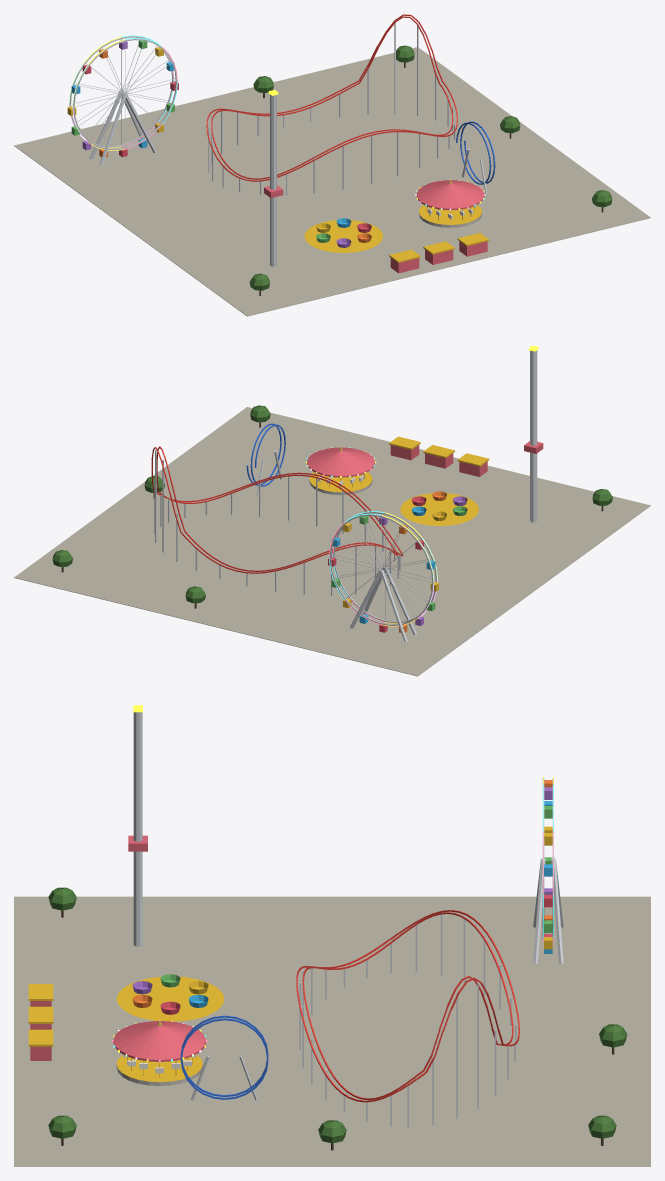
The model's file is amusement_park.glb.
3 renders of one model, top to bottom at view 1: azimuth 30°, elevation 25°; view 2: azimuth 150°, elevation 25°; view 3: azimuth 270°, elevation 25°, orthographic. The views are drawn at different scales.
Parts seen in each view (by area): view 1: Amuse_static, spin_s40_wheel, spinY_s50_carousel; view 2: Amuse_static, spin_s40_wheel, spinY_s50_carousel; view 3: Amuse_static, spinY_s50_carousel, spin_s40_wheel.
Part boxes in pixels (bbox=[...]): Amuse_static: bbox=[14, 14, 650, 316]; spin_s40_wheel: bbox=[67, 35, 178, 157]; spinY_s50_carousel: bbox=[415, 179, 485, 227]; Amuse_static: bbox=[14, 345, 650, 676]; spin_s40_wheel: bbox=[328, 511, 438, 632]; spinY_s50_carousel: bbox=[305, 447, 376, 495]; Amuse_static: bbox=[14, 705, 650, 1166]; spinY_s50_carousel: bbox=[112, 1020, 207, 1085]; spin_s40_wheel: bbox=[542, 776, 553, 953].
Size of the model in its own units: 118 by 48.81 by 118.
